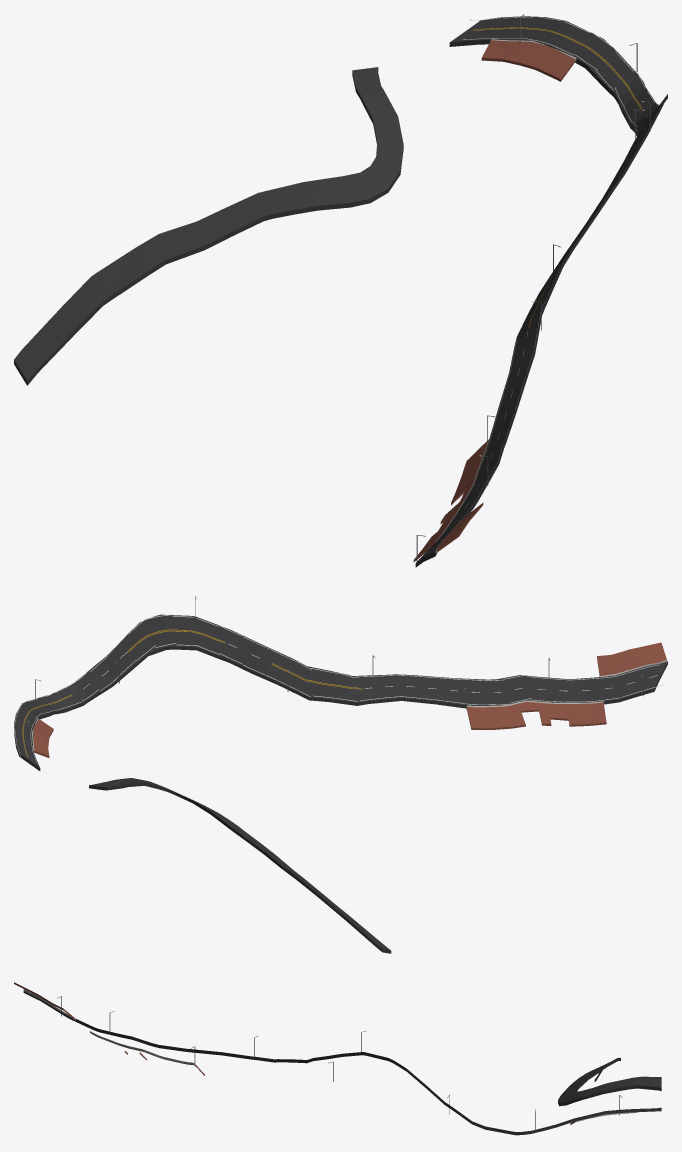
3 views of the same model, one above another, from view 1: azimuth 30°, elevation 25°; view 2: azimuth 150°, elevation 25°; view 3: azimuth 270°, elevation 25° (orthographic). The views are drawn at different scales.
Bounding box in the file's own units: 157 × 76.59 × 220.
